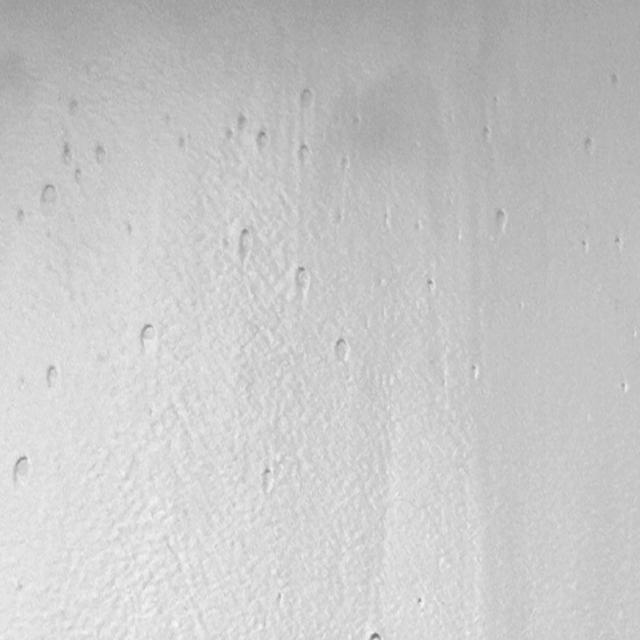pin holes: (8, 452, 34, 490), (137, 320, 162, 352), (291, 264, 313, 300), (36, 180, 60, 212), (235, 227, 257, 260), (40, 362, 63, 393), (331, 338, 354, 367), (295, 86, 317, 115), (489, 208, 510, 238), (258, 465, 276, 495), (252, 130, 272, 156), (92, 143, 110, 169), (296, 145, 314, 169), (59, 144, 75, 169), (606, 71, 624, 93), (478, 125, 496, 146), (177, 134, 194, 156), (582, 134, 598, 157), (65, 97, 81, 118), (72, 165, 85, 188), (469, 364, 483, 384), (14, 209, 28, 229), (235, 114, 249, 134), (423, 276, 437, 295), (579, 237, 592, 256), (224, 127, 238, 144), (612, 235, 625, 253), (618, 380, 632, 396), (339, 156, 352, 173), (412, 221, 425, 236), (414, 594, 426, 609), (369, 629, 386, 639)
